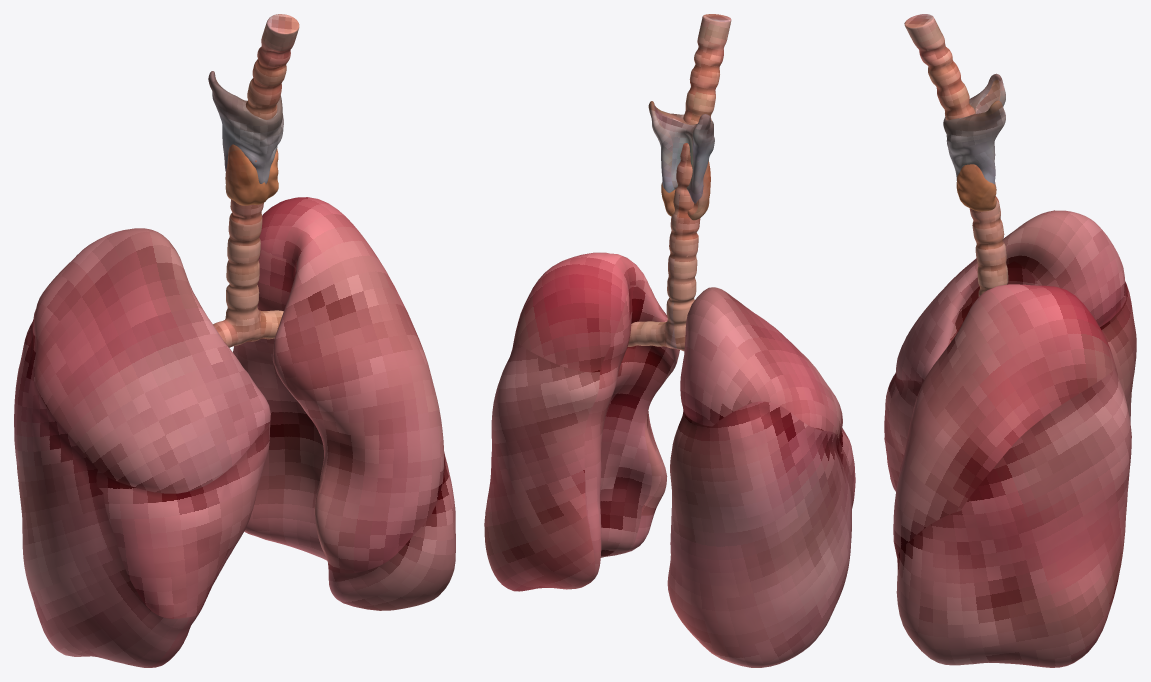
The model's file is lungs.glb.
3 views of the same model, side by side, from view 1: azimuth 30°, elevation 25°; view 2: azimuth 150°, elevation 25°; view 3: azimuth 270°, elevation 25° (orthographic). The views are drawn at different scales.
Visible parts, largest first — view 1: thairoid01:low_part02_Group6344:Group24638_thairoid01:lungh_, thairoid01:low_part01_Group6344:Group18522_thairoid01:lungh_; view 2: thairoid01:low_part02_Group6344:Group24638_thairoid01:lungh_, thairoid01:low_part01_Group6344:Group18522_thairoid01:lungh_; view 3: thairoid01:low_part02_Group6344:Group24638_thairoid01:lungh_, thairoid01:low_part01_Group6344:Group18522_thairoid01:lungh_.
Part boxes in pixels (x1=…): thairoid01:low_part02_Group6344:Group24638_thairoid01:lungh_: x1=14, y1=197, x2=455, y2=667; thairoid01:low_part01_Group6344:Group18522_thairoid01:lungh_: x1=208, y1=14, x2=299, y2=347; thairoid01:low_part02_Group6344:Group24638_thairoid01:lungh_: x1=484, y1=252, x2=855, y2=667; thairoid01:low_part01_Group6344:Group18522_thairoid01:lungh_: x1=627, y1=14, x2=731, y2=351; thairoid01:low_part02_Group6344:Group24638_thairoid01:lungh_: x1=884, y1=210, x2=1136, y2=667; thairoid01:low_part01_Group6344:Group18522_thairoid01:lungh_: x1=904, y1=14, x2=1008, y2=296.
Size of the model in its own units: 0.2233 by 0.3687 by 0.1424.
2 materials, 2 textured.
